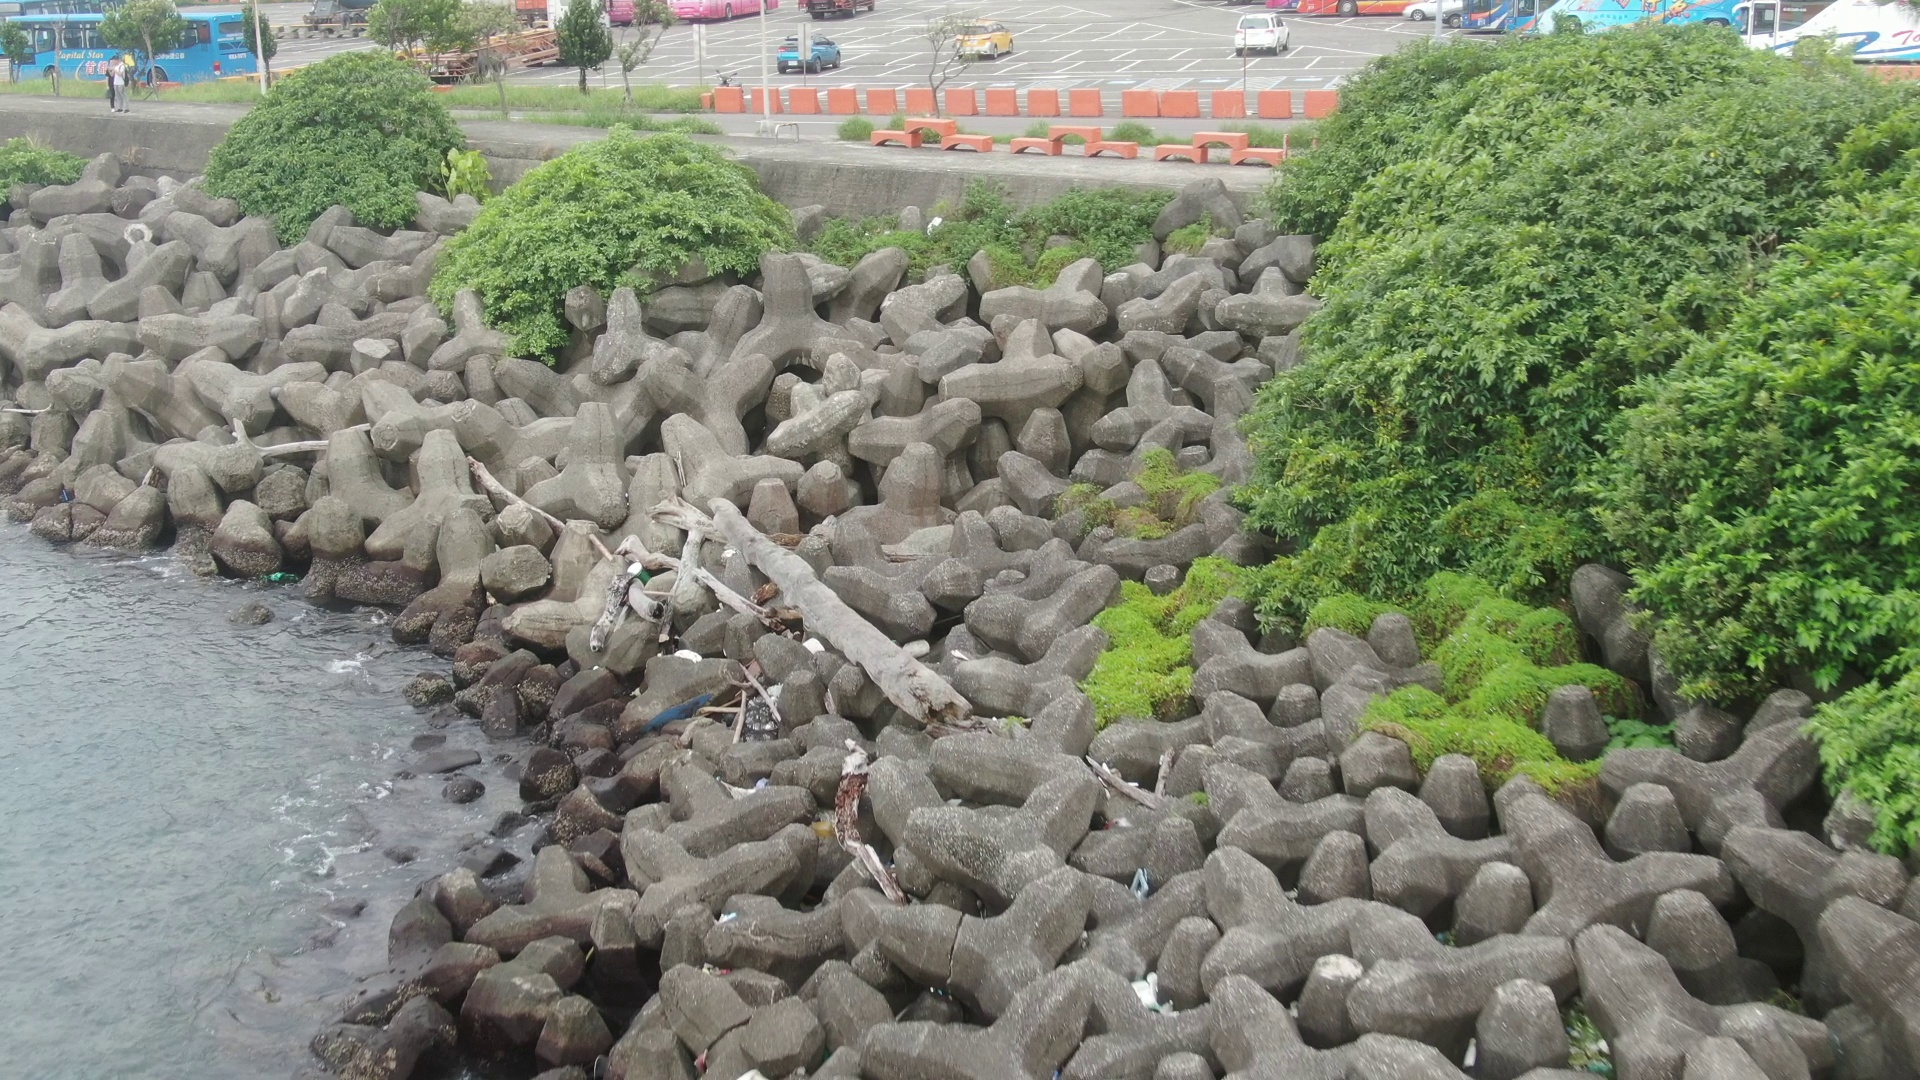garbage: (621, 684, 732, 736), (736, 670, 789, 740), (1125, 957, 1184, 1017), (248, 556, 313, 593), (1125, 856, 1160, 910), (678, 638, 716, 669), (796, 629, 828, 665), (628, 560, 653, 589), (920, 206, 945, 233)
